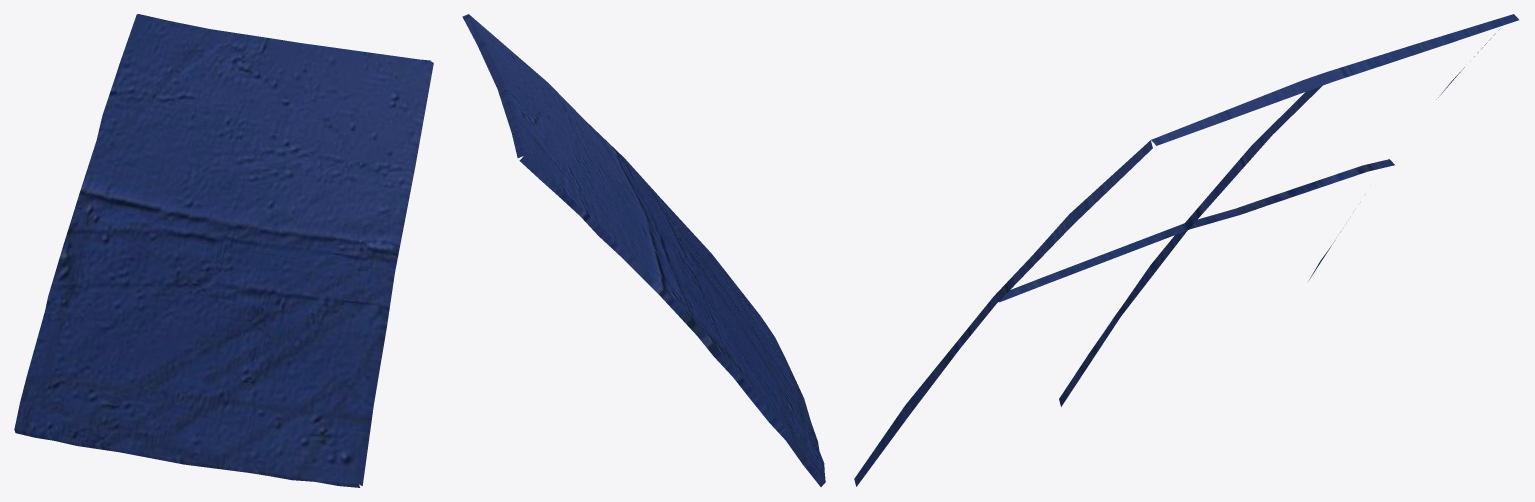
The picture shows the model from 3 angles, left to right: view 1: azimuth 30°, elevation 25°; view 2: azimuth 150°, elevation 25°; view 3: azimuth 270°, elevation 25°; orthographic projection. The views are drawn at different scales.
Bounding box in the file's own units: 1232398 × 986652 × 1260285.
Materials: 1 (1 with a texture image).
